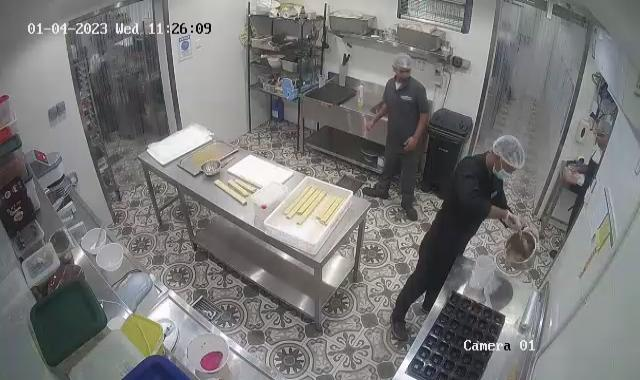hairnet: (487, 133, 526, 172), (392, 52, 414, 72)
